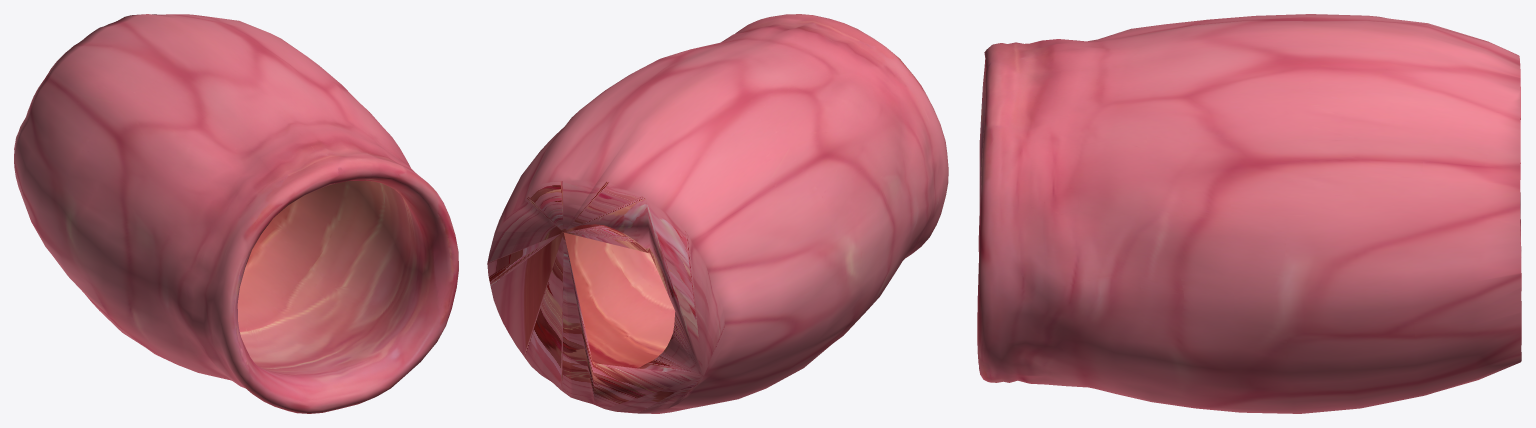
File: trapbase_Turn.fbx
The picture shows the model from 3 angles, left to right: view 1: azimuth 30°, elevation 25°; view 2: azimuth 150°, elevation 25°; view 3: azimuth 270°, elevation 25°; orthographic projection. The views are drawn at different scales.
Visible parts, largest first — view 1: Mesh_0; view 2: Mesh_0; view 3: Mesh_0.
Part boxes in pixels (x1,y1,x2,y2): Mesh_0: (14,14,458,413); Mesh_0: (487,14,948,413); Mesh_0: (977,14,1521,413).
Bounding box in the file's own units: 0.5682 × 0.5294 × 0.7153.
